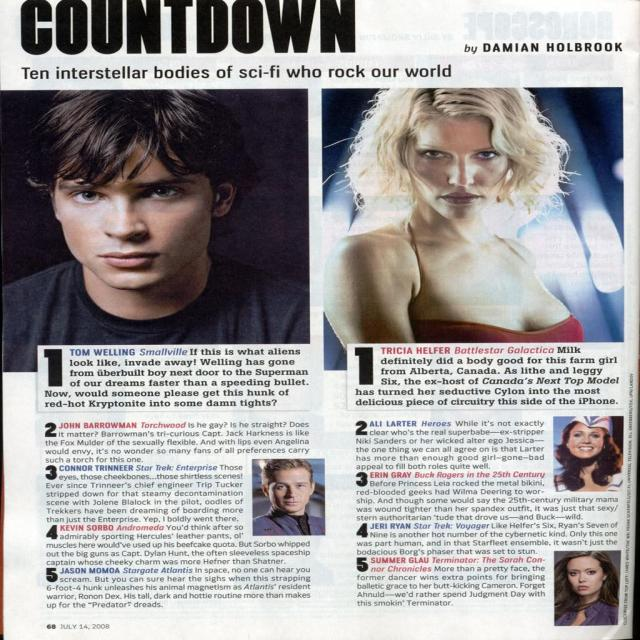nomask: (53, 133, 211, 290), (403, 114, 508, 220), (268, 470, 310, 512), (567, 557, 602, 596), (569, 423, 603, 458)
